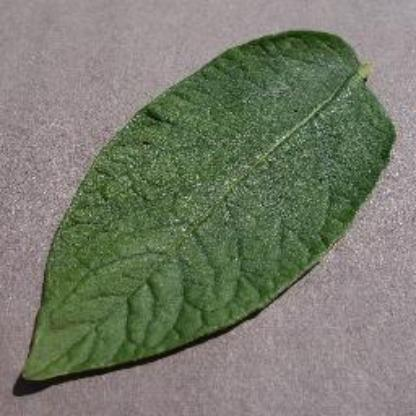Healthy-plant: (20, 18, 396, 396)
